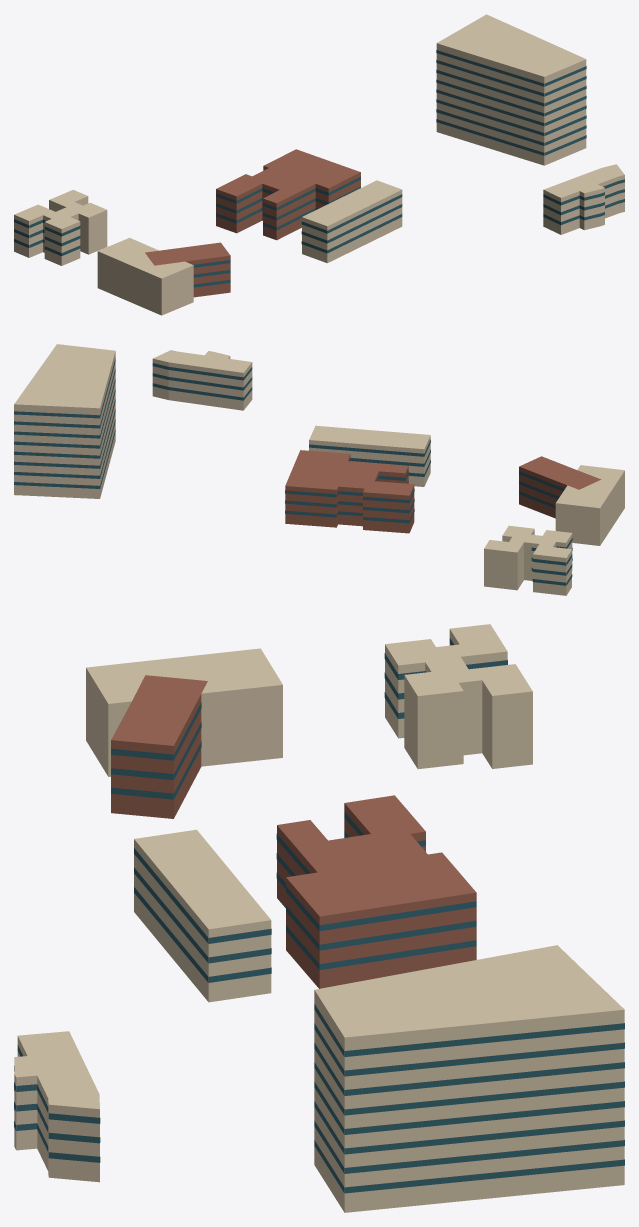
Rendered from city_8_-8.glb.
3 renders of one model, top to bottom at view 1: azimuth 30°, elevation 25°; view 2: azimuth 150°, elevation 25°; view 3: azimuth 270°, elevation 25°, orthographic. The views are drawn at different scales.
Visible parts, largest first — view 1: city_8_-8; view 2: city_8_-8; view 3: city_8_-8.
Part boxes in pixels (<box>): city_8_-8: <box>14,14,624,315</box>; city_8_-8: <box>14,344,624,595</box>; city_8_-8: <box>14,624,624,1212</box>.
Size of the model in its own units: 227 by 36 by 114.
